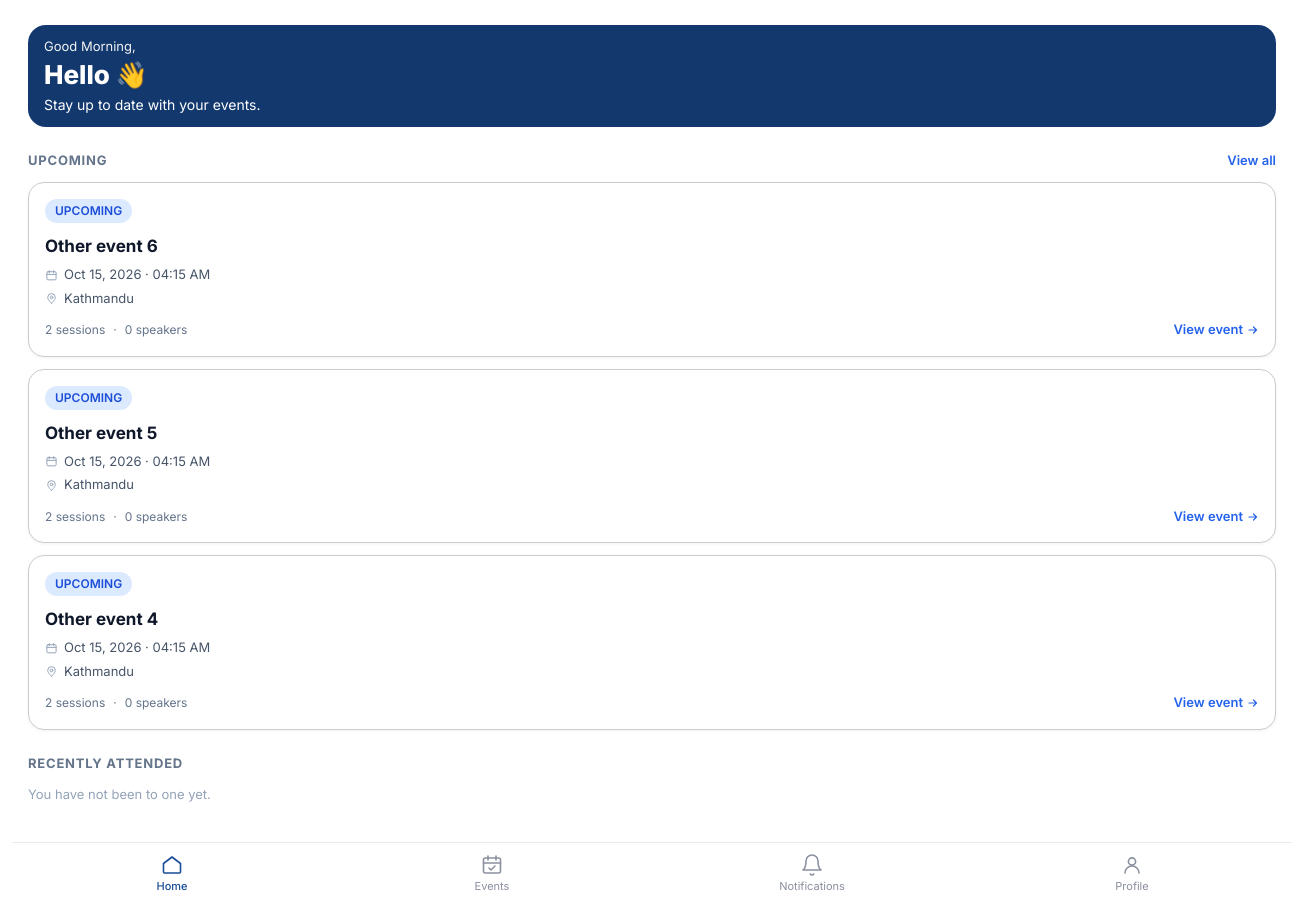
Test case: home › searches My Events by name and resets pagination
Click the button "Events". click: (492, 872)
box: x1=332 y1=843 x2=652 y2=899
(page scrolled)
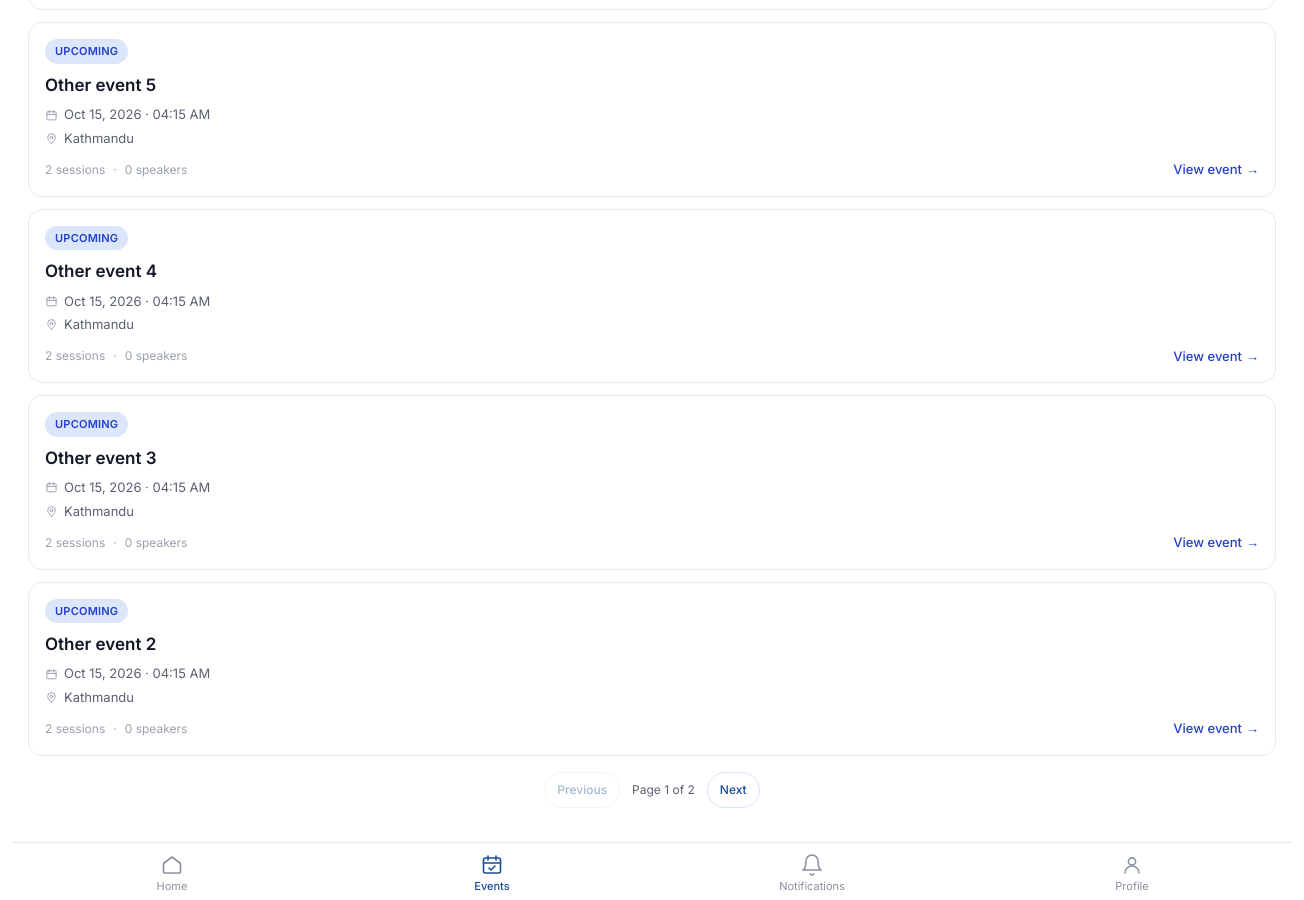
Click the button "Next". click: (733, 790)
box: x1=707 y1=772 x2=760 y2=808
(page scrolled)
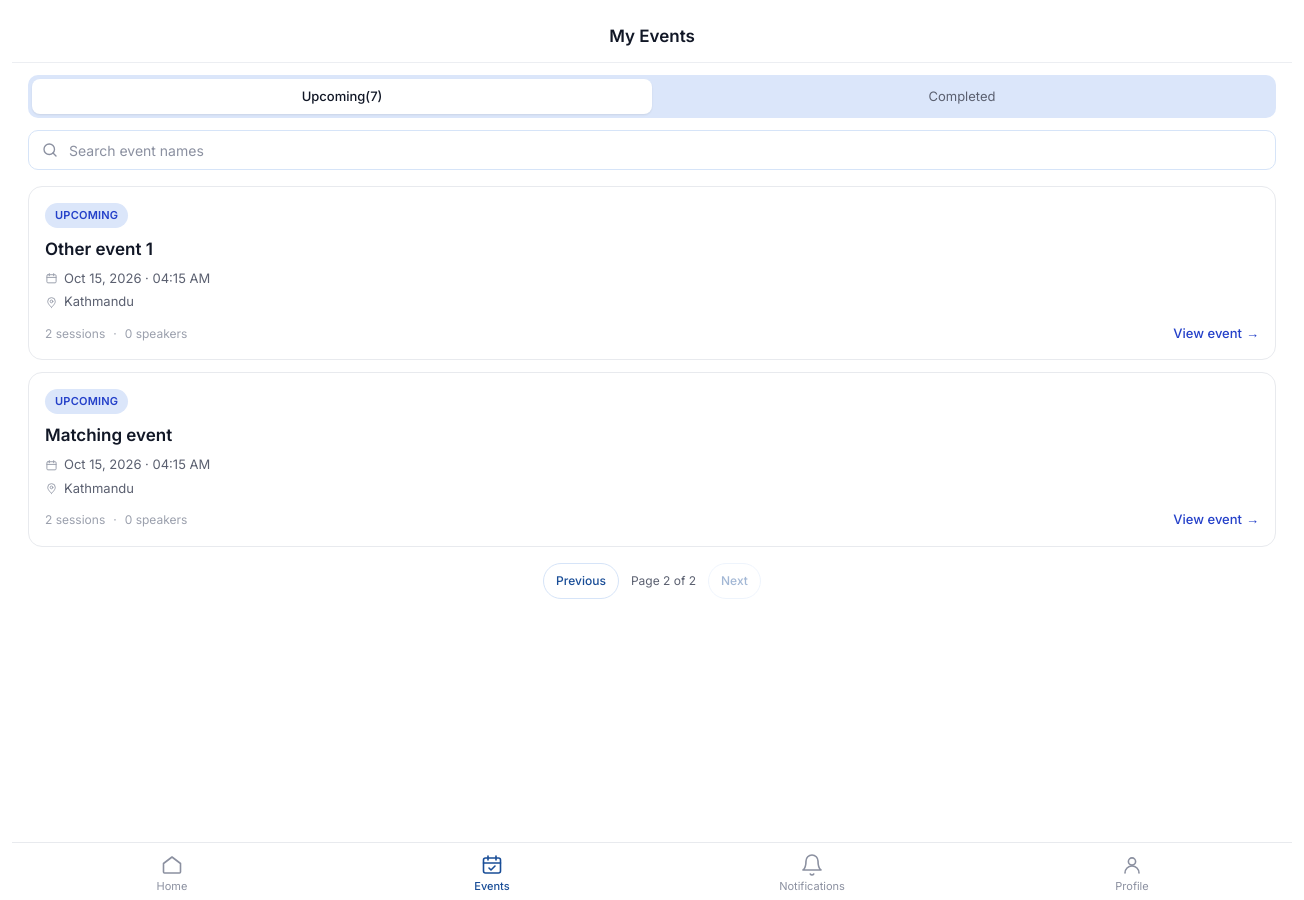
Expected: the heading "Other event 1" is shown, x1=45 y1=238 x2=153 y2=258
Type "Matching" into the search field labelled "Search event names". click: (666, 150)
box: x1=69 y1=140 x2=1263 y2=160
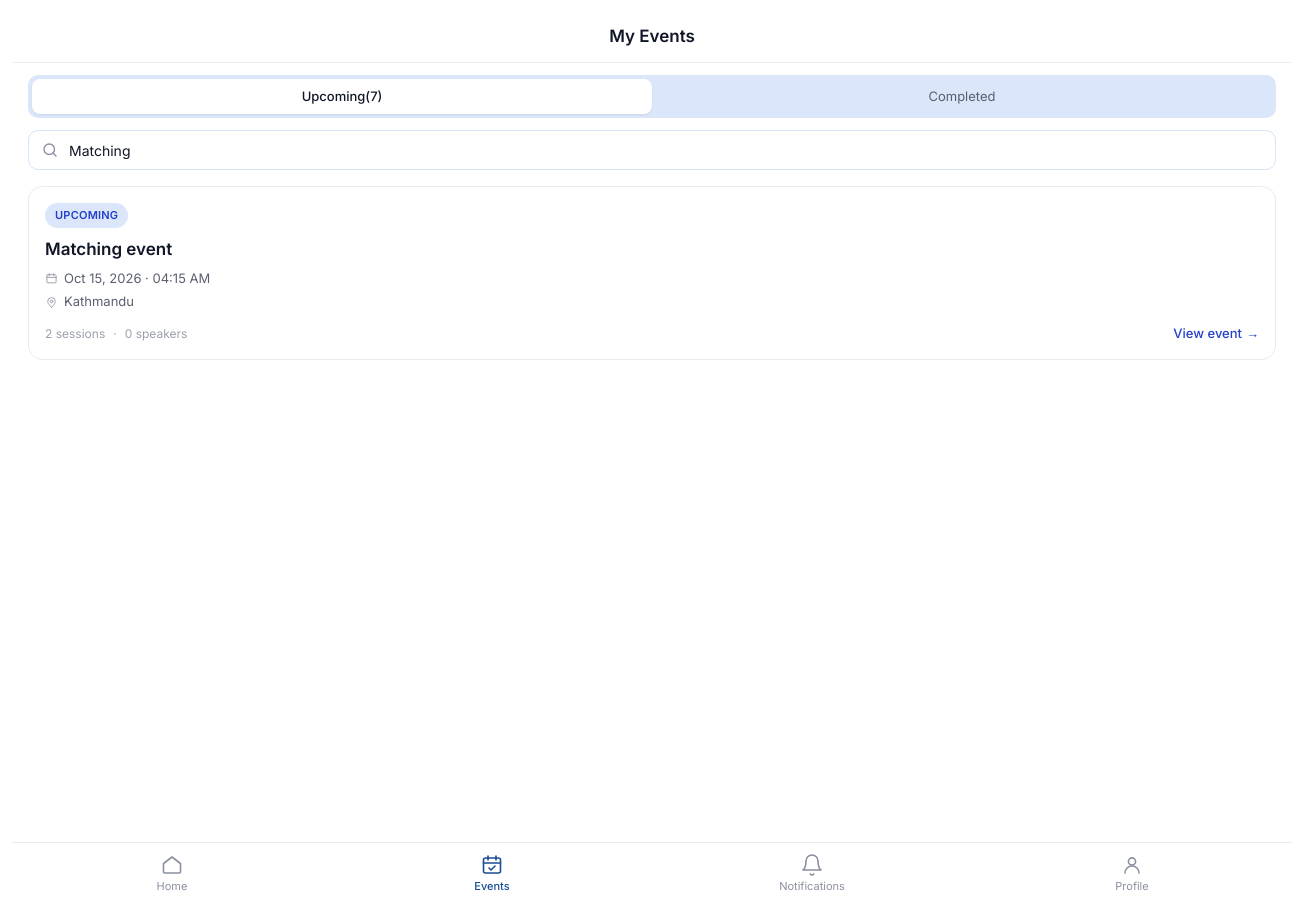
Expected: the heading "Matching event" is shown, x1=45 y1=238 x2=172 y2=258
Expected: the heading "Other event 1" is gone
Expected: the button "Next" is gone
